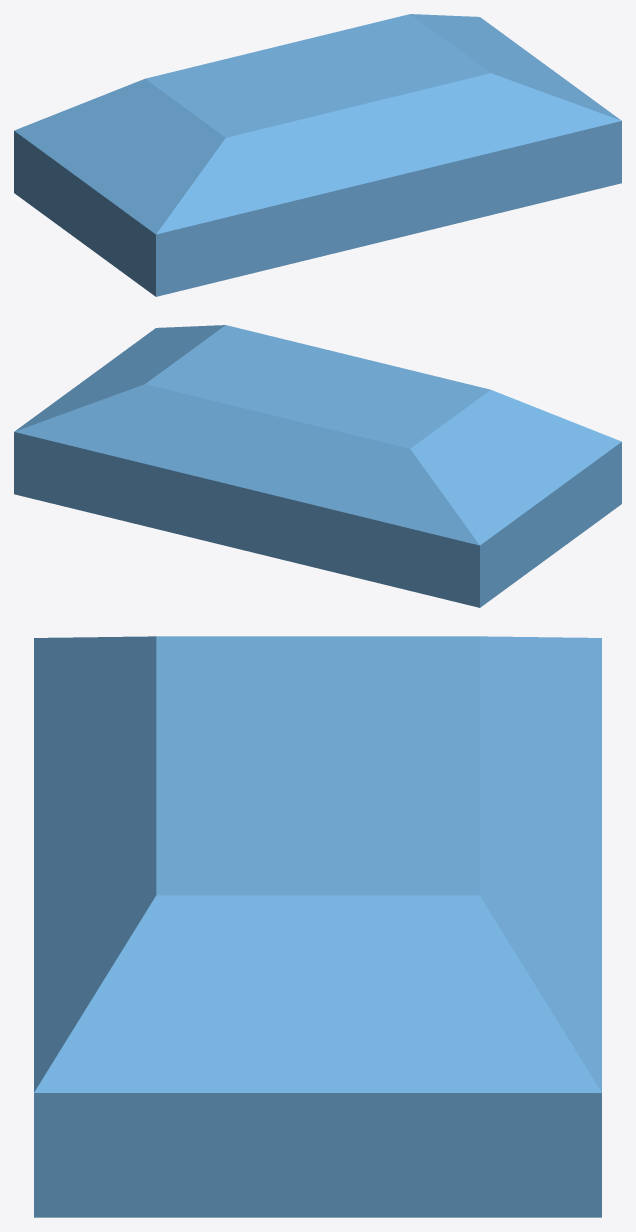
The model's file is IronIngot.gltf.
3 renders of one model, top to bottom at view 1: azimuth 30°, elevation 25°; view 2: azimuth 150°, elevation 25°; view 3: azimuth 270°, elevation 25°, orthographic. The views are drawn at different scales.
Parts seen in each view (by area): view 1: IronIngot; view 2: IronIngot; view 3: IronIngot.
Part boxes in pixels (x1,y1,x2,y2): IronIngot: [14, 14, 621, 296]; IronIngot: [14, 325, 621, 607]; IronIngot: [34, 636, 601, 1217].
Size of the model in its own units: 0.7258 by 0.167 by 0.383.
